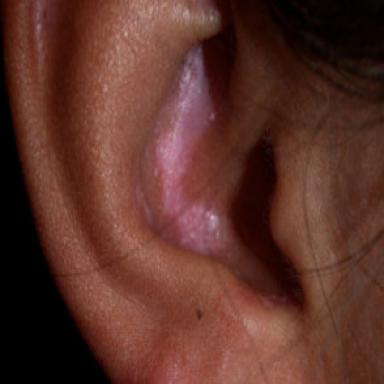Lupus-Erythematosus-Chronicus-Discoides: (155, 46, 220, 255)
